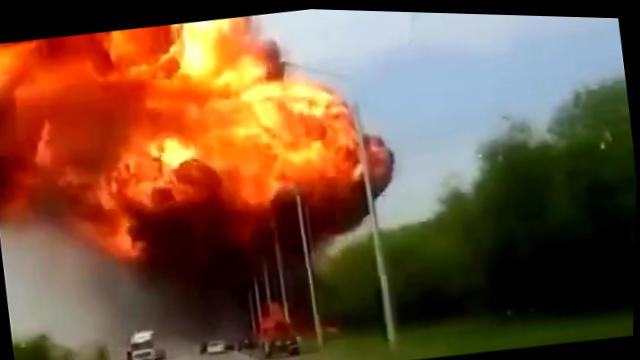fire: (203, 66, 362, 208), (0, 86, 149, 235), (0, 18, 183, 110), (173, 10, 272, 92), (131, 79, 214, 171), (144, 160, 213, 213), (89, 216, 139, 264)
